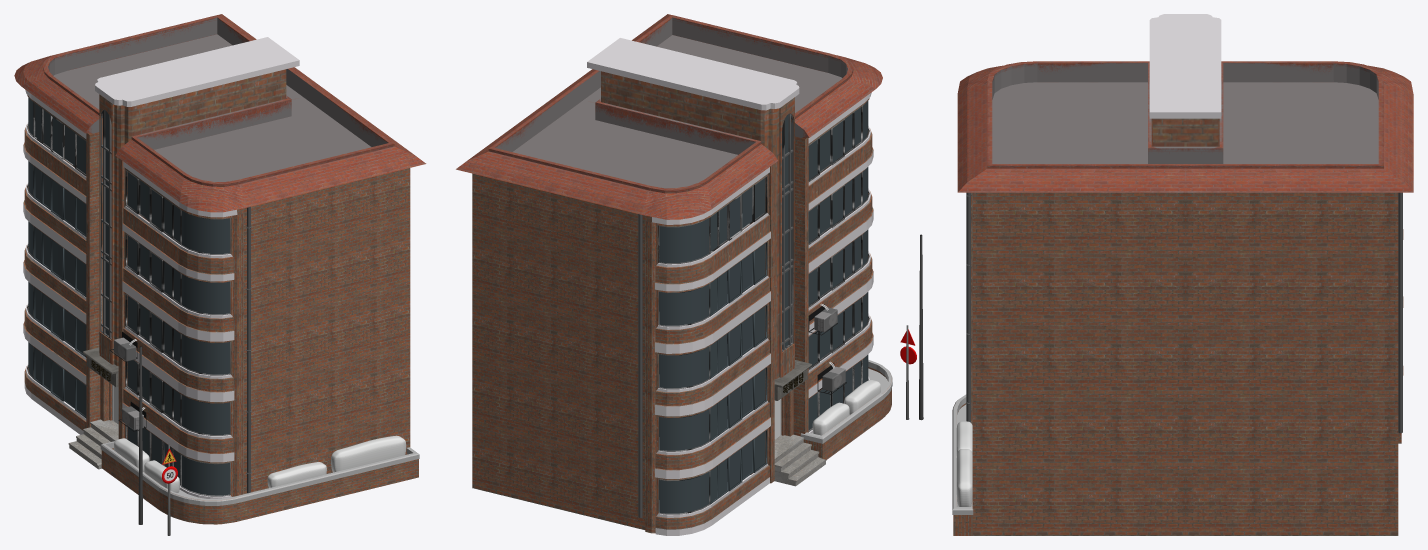
The model's file is stage2_building1(no mat).fbx.
3 renders of one model, left to right at view 1: azimuth 30°, elevation 25°; view 2: azimuth 150°, elevation 25°; view 3: azimuth 270°, elevation 25°, orthographic. The views are drawn at different scales.
Parts seen in each view (by area): view 1: Cube.003, Cube.188, Cube.038, Cube.011, Cube.013, Cube.061, Cube.057, Cube.051, Cube.046, Cube.069, Cube.109, Cube.196 (+15 smaller); view 2: Cube.003, Cube.188, Cube.011, Cube.013, Cube.061, Cube.087, Cube.093, Cube.081, Cube.075, Cube.038, Cube.109, Cube.247 (+12 smaller); view 3: Cube.003, Cube.188, Cube.013, Cube.011, Cube.038, NurbsPath.033, NurbsPath, Cube.196.
Boxes of the visible parts, <box> form: Cube.003: <box>23,89,410,498</box>; Cube.188: <box>14,14,426,212</box>; Cube.038: <box>100,441,419,524</box>; Cube.011: <box>99,69,286,365</box>; Cube.013: <box>95,37,299,106</box>; Cube.061: <box>28,97,229,253</box>; Cube.057: <box>127,235,229,314</box>; Cube.051: <box>127,296,229,374</box>; Cube.046: <box>127,360,229,434</box>; Cube.069: <box>127,426,229,495</box>; Cube.109: <box>100,110,111,339</box>; Cube.196: <box>331,435,406,472</box>; Cube.003: <box>472,92,873,535</box>; Cube.188: <box>456,14,882,219</box>; Cube.011: <box>601,71,794,379</box>; Cube.013: <box>587,38,799,110</box>; Cube.061: <box>659,101,868,262</box>; Cube.087: <box>659,306,765,388</box>; Cube.093: <box>659,244,765,325</box>; Cube.081: <box>659,369,765,450</box>; Cube.075: <box>659,432,765,513</box>; Cube.038: <box>800,360,892,459</box>; Cube.109: <box>782,113,793,351</box>; Cube.247: <box>774,434,826,486</box>; Cube.003: <box>971,118,1403,535</box>; Cube.188: <box>957,61,1413,192</box>; Cube.013: <box>1149,14,1221,118</box>; Cube.011: <box>1153,118,1218,146</box>; Cube.038: <box>952,394,973,535</box>; NurbsPath.033: <box>1398,192,1402,433</box>; NurbsPath: <box>966,192,970,422</box>; Cube.196: <box>956,449,972,506</box>.
Size of the model in its own units: 3766 by 4991 by 4989.
